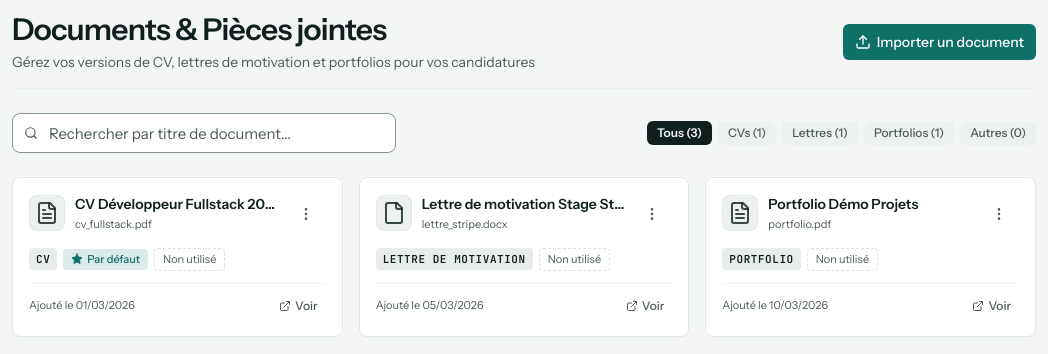
Scenario: Page: DocumentsPage › filters documents when clicking category chips
This screenshot has width=1048, height=354.
Expected: the heading "CV Développeur Fullstack 2026" is shown, [75,194,278,214]
# Click on CVs chip
Click the button "CVs (1)": [747, 133] box [718,121,776,145]
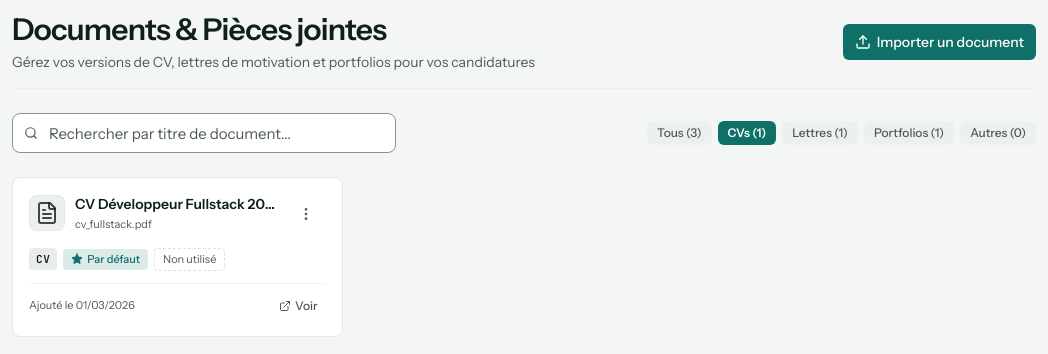
Expected: the heading "CV Développeur Fullstack 2026" is shown, [75,194,278,214]
Now the heading "Lettre de motivation Stage Stripe" is gone
Now the heading "Portfolio Démo Projets" is gone
